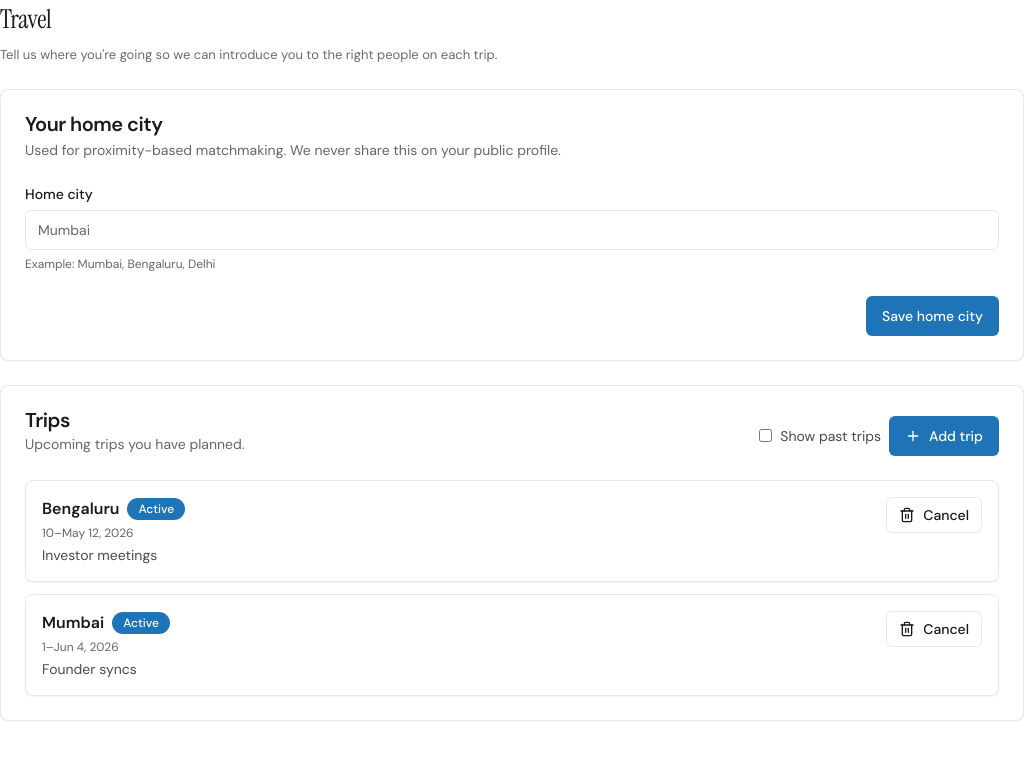
Test: TravelPage › add-trip flow creates a new trip and refetches the list
Expected: the list with test id "trip-list" is shown, left=25, top=480, right=999, bottom=696
Click the button with test id "add-trip".
click(944, 436)  # box left=889, top=416, right=999, bottom=456
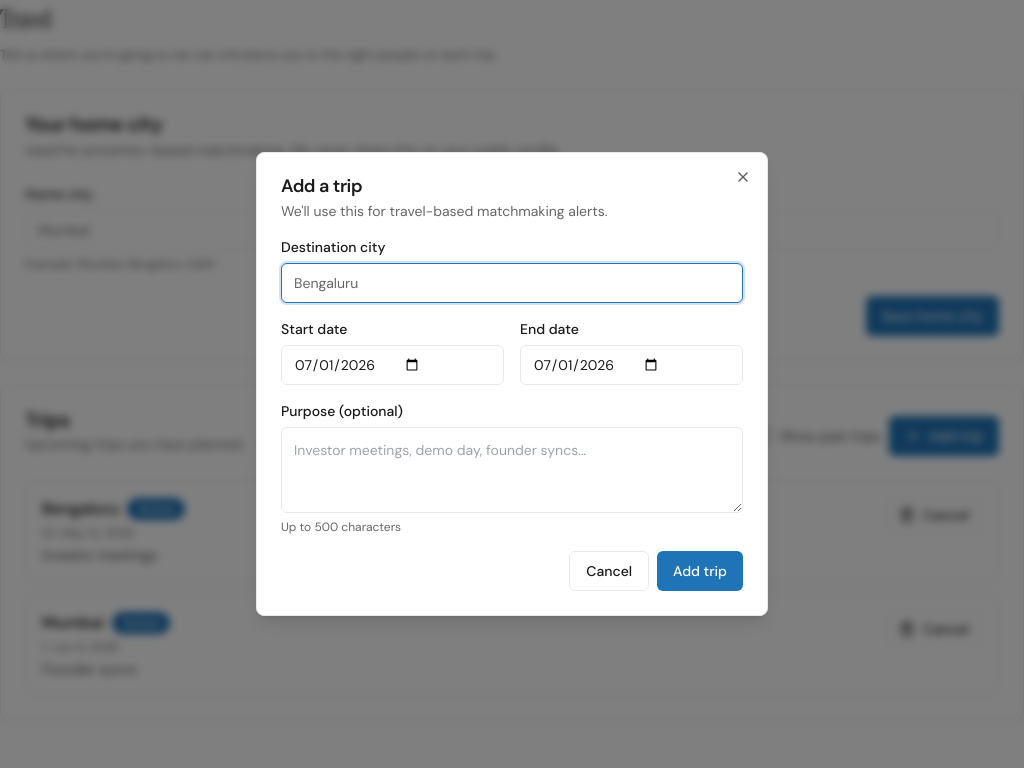
Type "Hyderabad" into the field labelled "Destination city".
click(512, 283); type("Hyderabad")  # box left=281, top=263, right=743, bottom=303
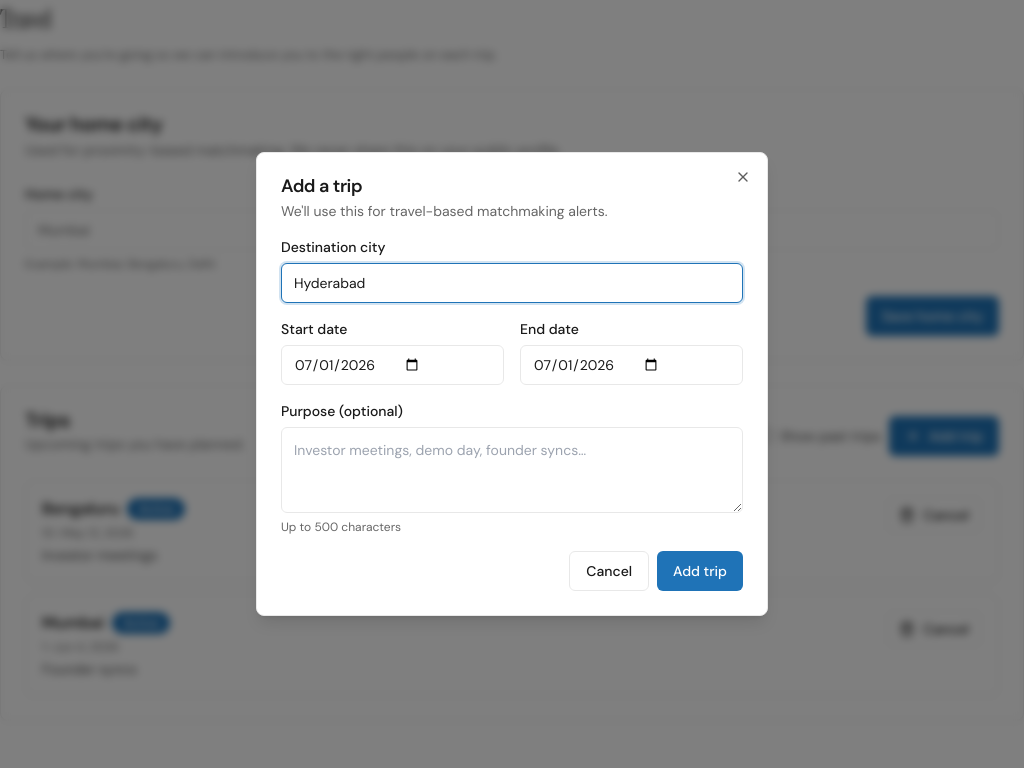
# start/end are pre-seeded with today's date — use 2026-09-01..2026-09-02.
Type "2026-09-01" into the date field labelled "Start date".
click(392, 365); type("2026-09-01")  # box left=281, top=345, right=504, bottom=385
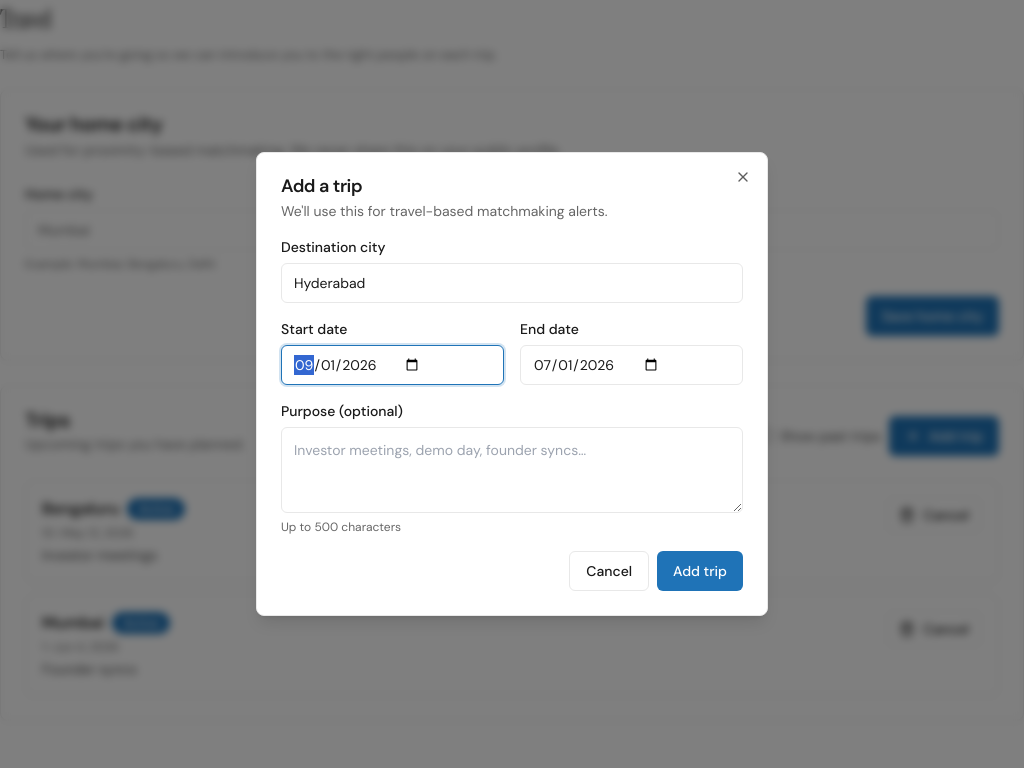
Type "2026-09-03" into the date field labelled "End date".
click(632, 365); type("2026-09-03")  # box left=520, top=345, right=743, bottom=385
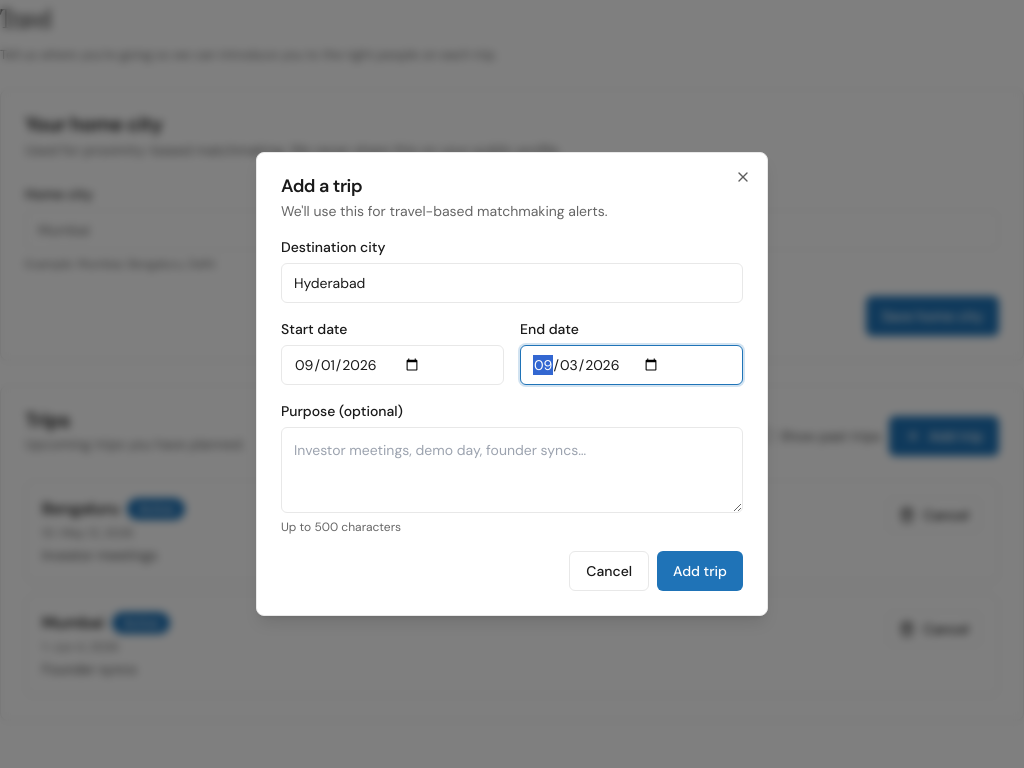
Click the button "Add trip".
click(700, 571)  # box left=657, top=551, right=743, bottom=591
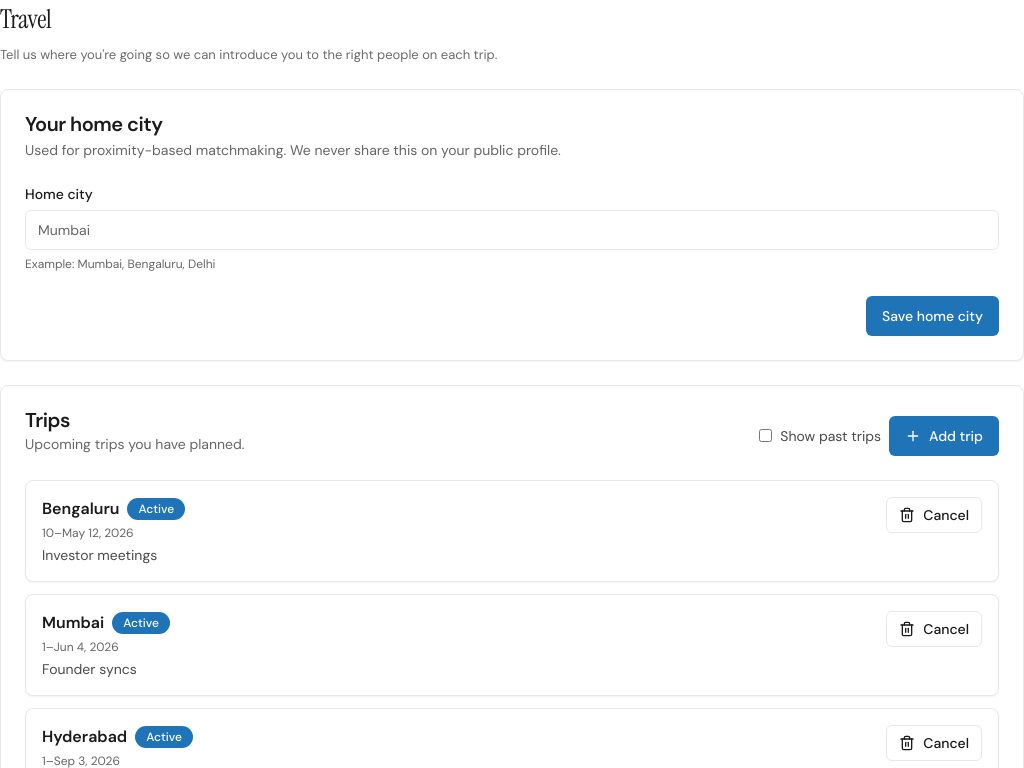
Expected: the dialog is gone
Expected: the text "Hyderabad" is shown, left=42, top=724, right=127, bottom=748
